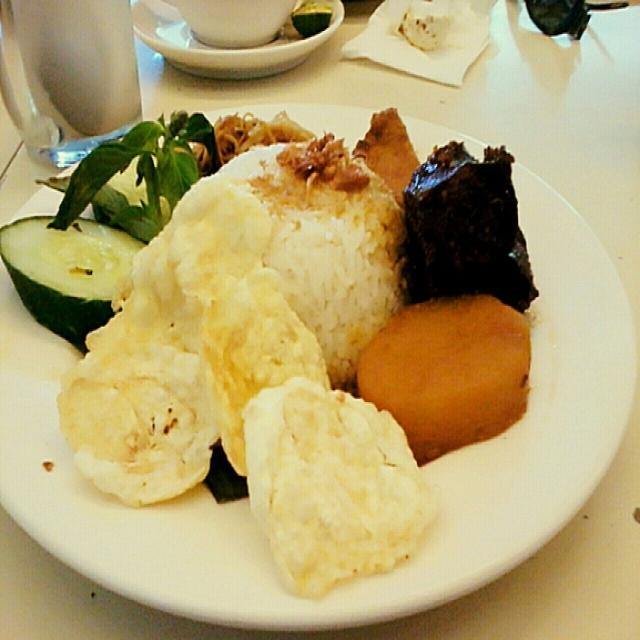米饭主食: (16, 68, 611, 615)
